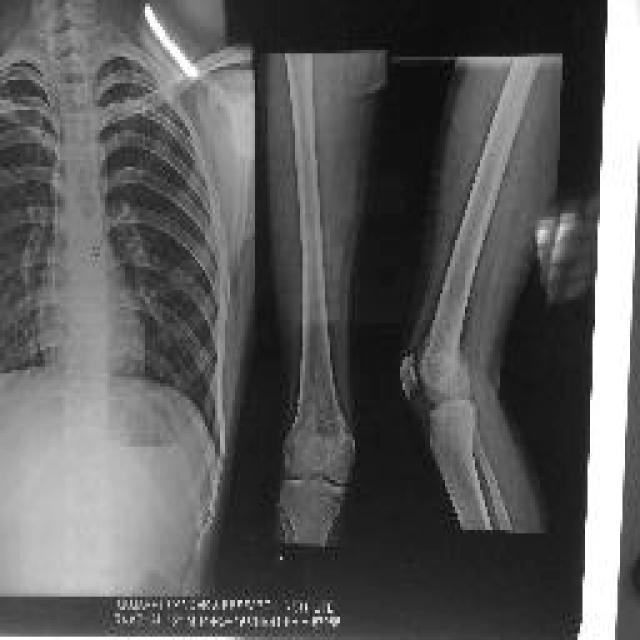bone-cancer: (312, 413, 355, 486)
